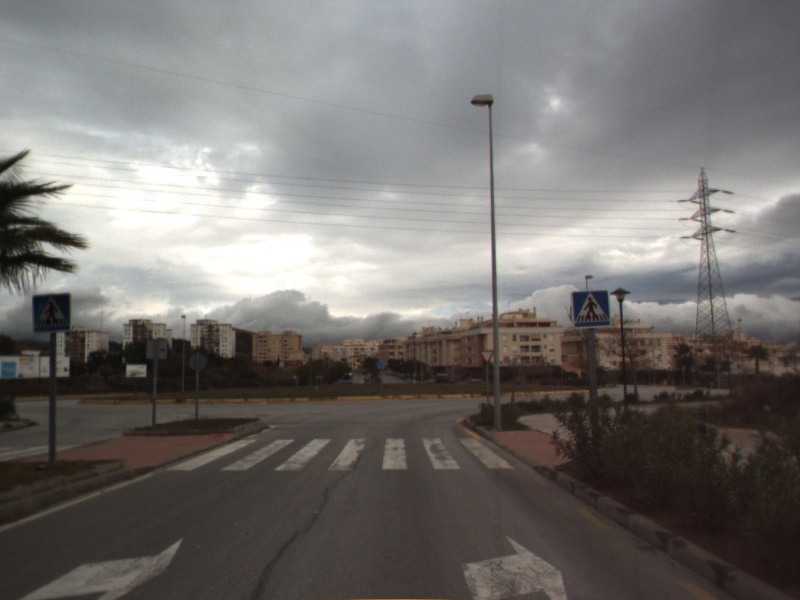RIGHT: (17, 534, 187, 600), (458, 532, 569, 600)
